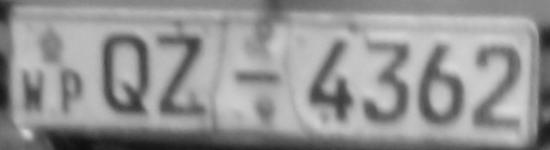-: (227, 64, 284, 88)
2: (468, 37, 526, 137)
3: (355, 36, 415, 126)
4: (300, 36, 357, 124)
6: (415, 35, 467, 128)
P: (54, 65, 89, 121)
Q: (92, 27, 154, 121)
W: (17, 66, 50, 117)
Z: (154, 26, 211, 122)
